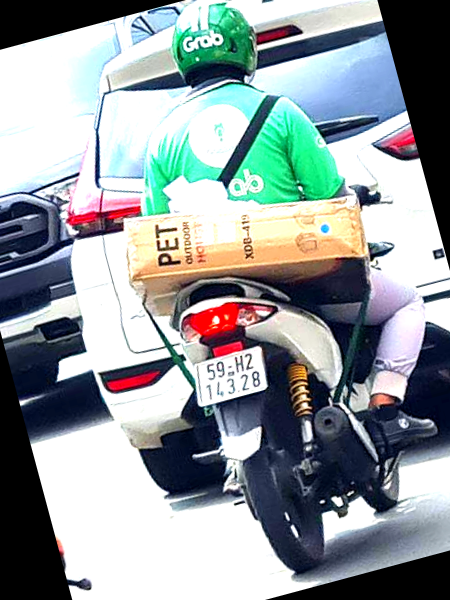number: (201, 350, 265, 404)
